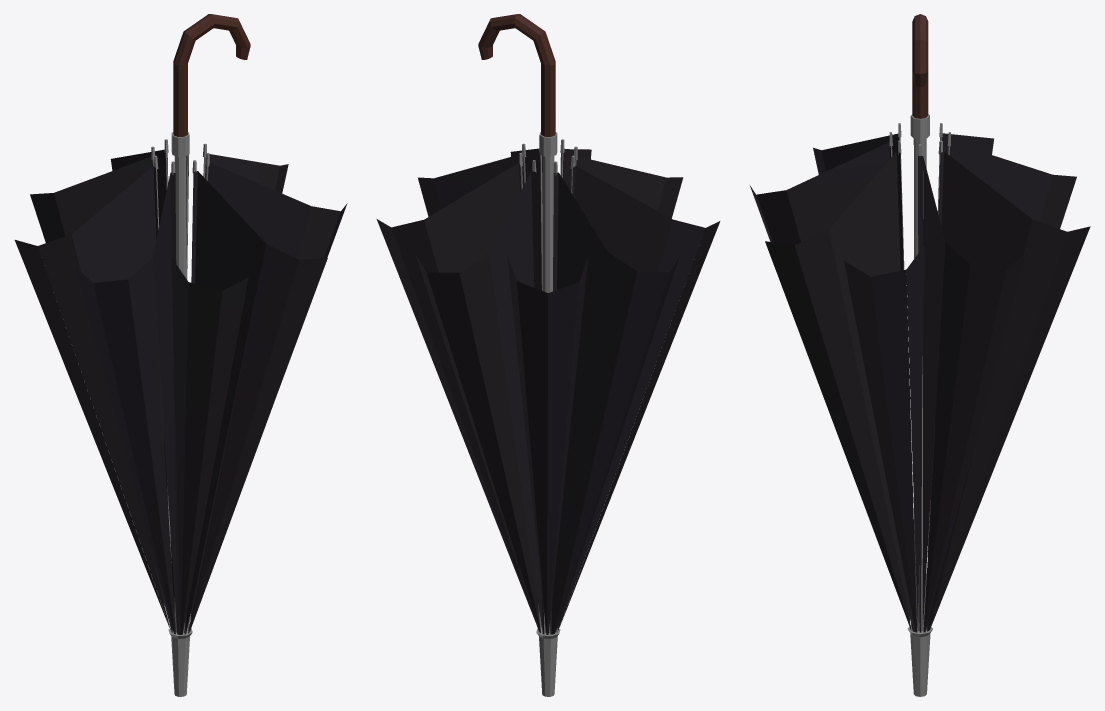
File: paraply.glb
The picture shows the model from 3 angles, left to right: view 1: azimuth 30°, elevation 25°; view 2: azimuth 150°, elevation 25°; view 3: azimuth 270°, elevation 25°; orthographic projection. The views are drawn at different scales.
Visible parts, largest first — view 1: Closed_umbrella; view 2: Closed_umbrella; view 3: Closed_umbrella.
Part boxes in pixels (box(x1,y1,x2,y2)): Closed_umbrella: box(14, 14, 347, 696); Closed_umbrella: box(376, 14, 720, 696); Closed_umbrella: box(750, 14, 1090, 696).
Bounding box in the file's own units: 0.3252 × 0.7289 × 0.3246.
1 material, 1 textured.
